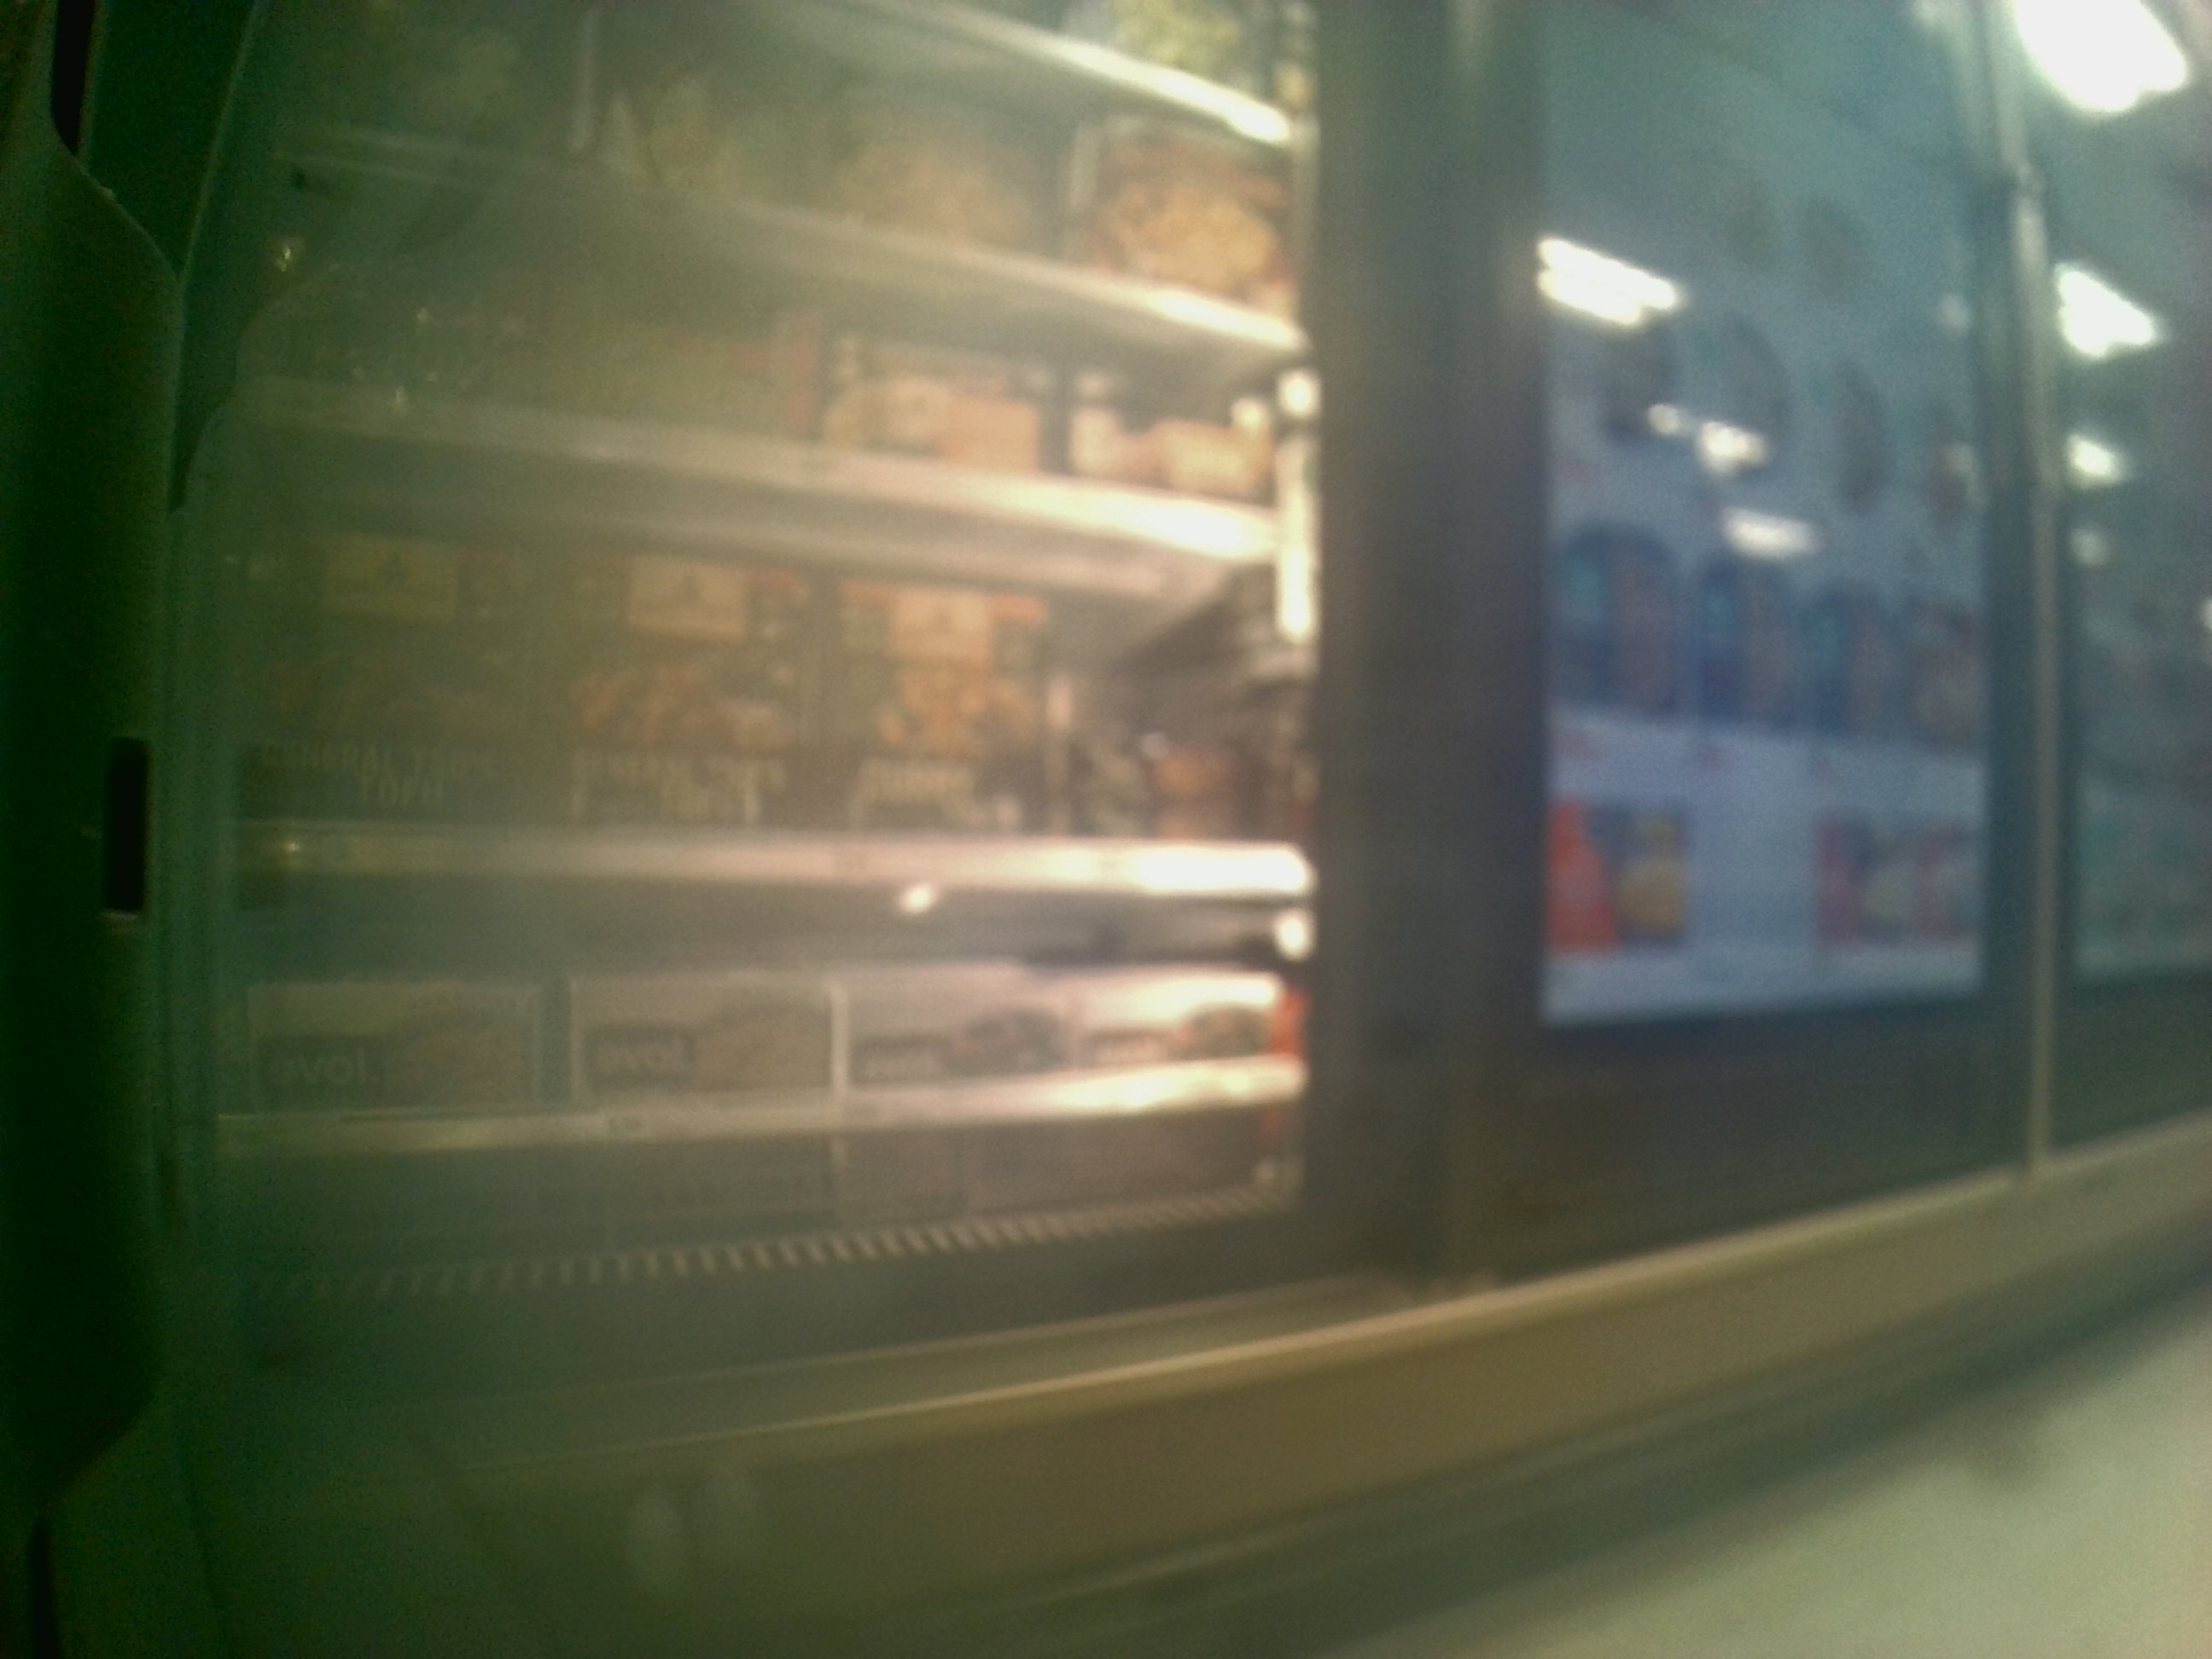frozen-food-shelf: (179, 545, 1315, 908), (179, 915, 1334, 1175)
